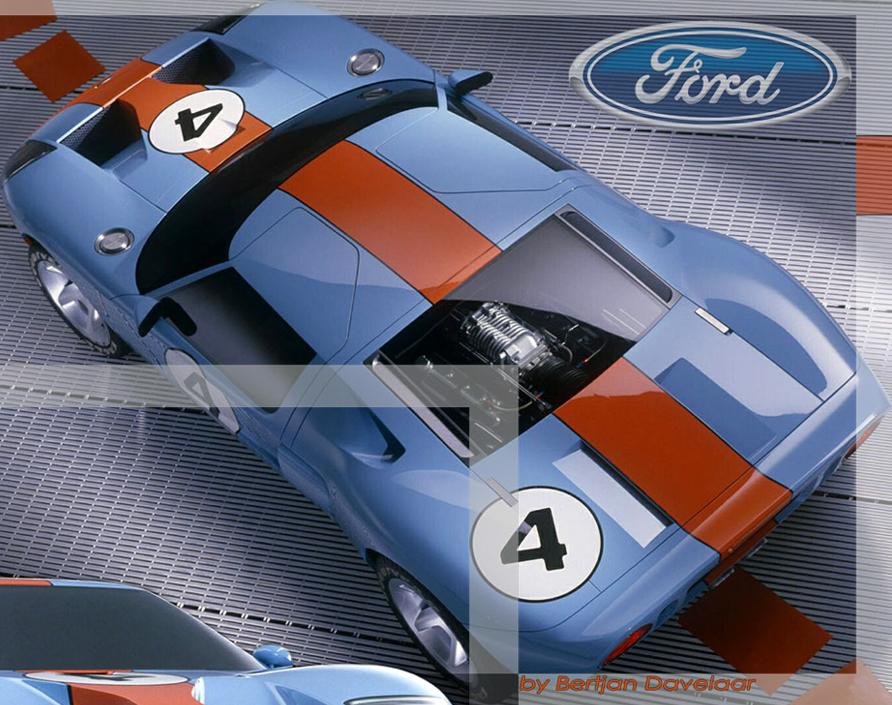side_glass: (162, 246, 338, 435)
